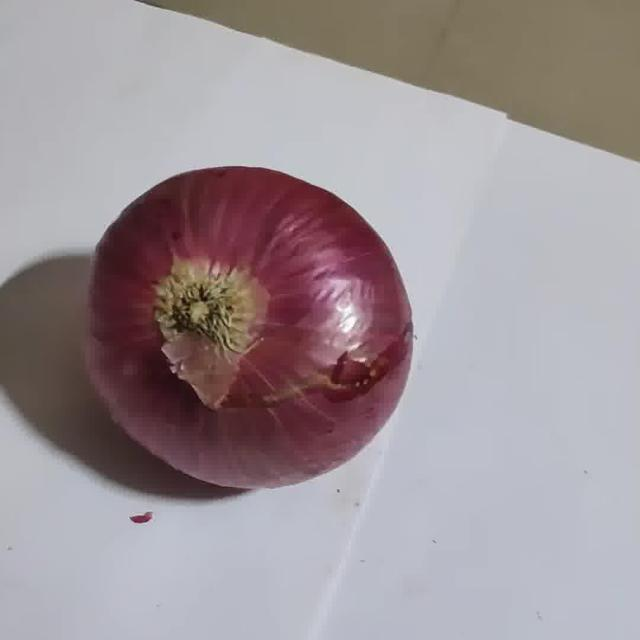Onion: (91, 167, 412, 490)
